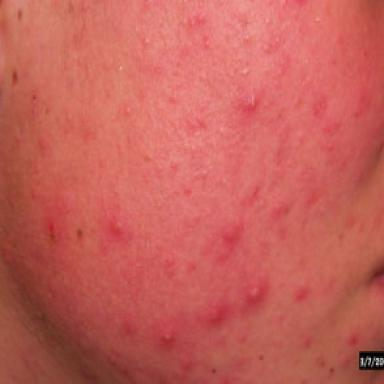acne: (244, 279, 269, 305), (235, 91, 259, 114), (221, 224, 243, 244), (108, 218, 127, 238), (208, 304, 227, 322), (295, 287, 308, 301), (49, 221, 55, 246), (347, 333, 359, 345), (163, 332, 173, 343), (303, 336, 312, 348)
